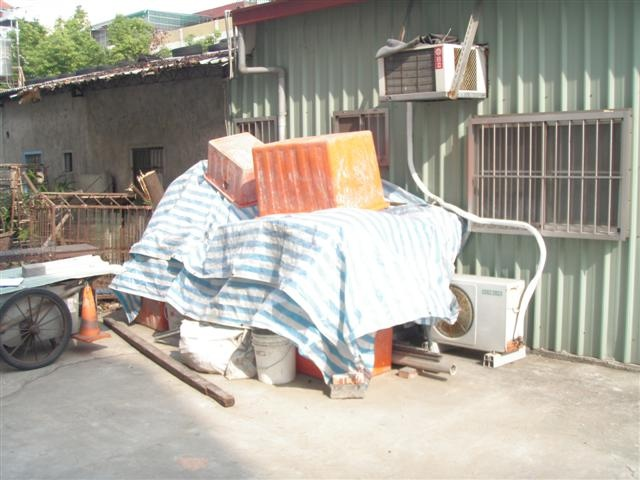box: (251, 129, 388, 218), (204, 130, 266, 205)
bucket: (249, 327, 298, 387)
plastic_bag: (133, 192, 463, 324)
